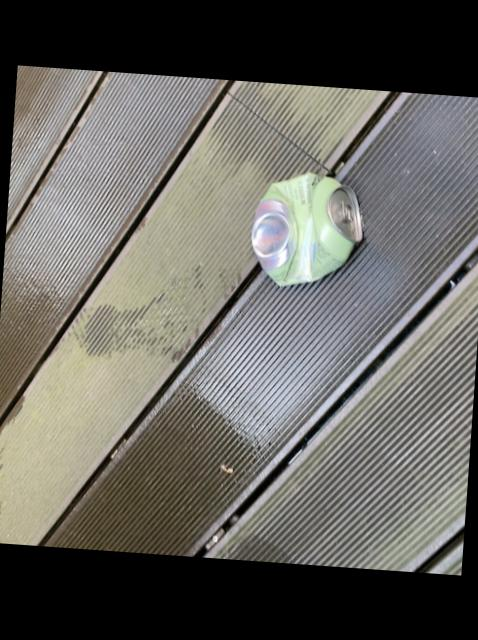metal: (250, 172, 361, 286)
